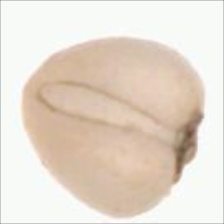L5: (36, 78, 181, 145), (13, 56, 57, 135), (170, 107, 206, 188)
L6: (18, 34, 207, 219)
